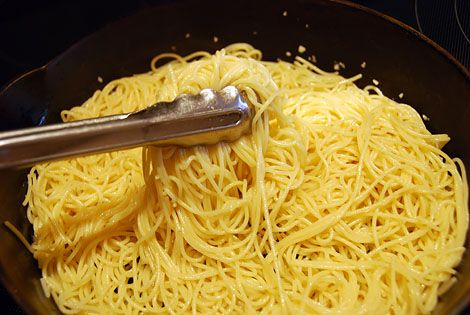plain spaghetti: (43, 53, 466, 315)
